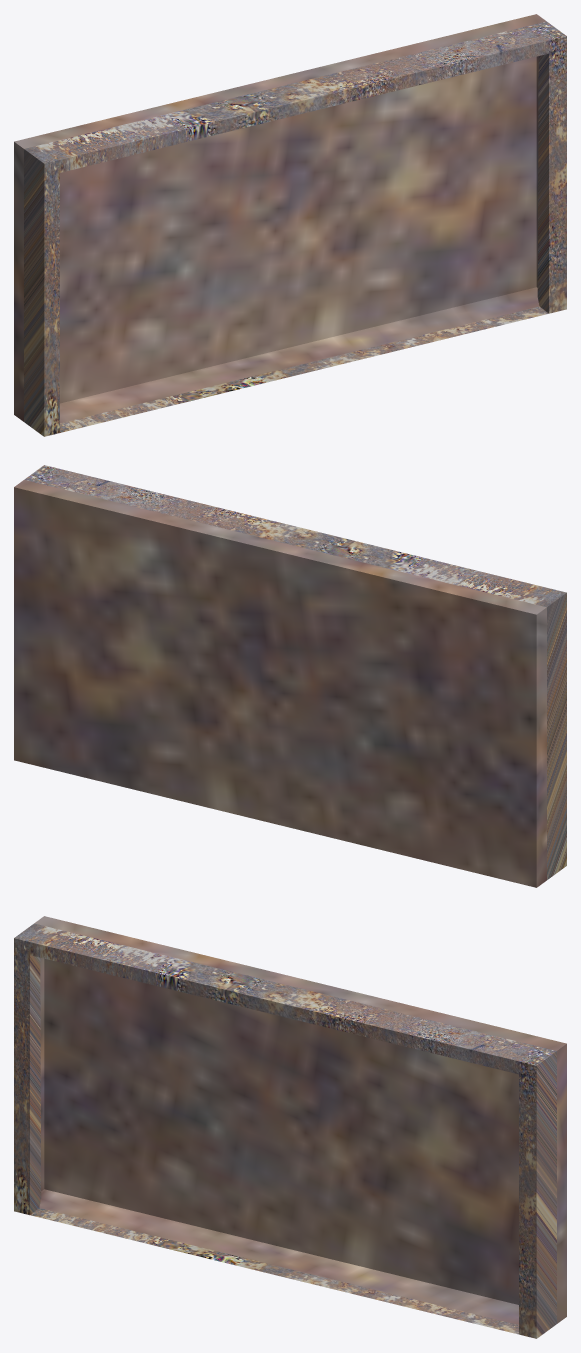
File: Airport_Large Door.dae
3 renders of one model, top to bottom at view 1: azimuth 30°, elevation 25°; view 2: azimuth 150°, elevation 25°; view 3: azimuth 330°, elevation 25°, orthographic.
Visible parts, largest first — view 1: Cube4-0; view 2: Cube4-0; view 3: Cube4-0.
Part boxes in pixels (bbox=[...]): Cube4-0: bbox=[14, 14, 566, 436]; Cube4-0: bbox=[14, 465, 566, 887]; Cube4-0: bbox=[14, 916, 566, 1338].
Bounding box in the file's own units: 4.99 × 2.49 × 0.5.
